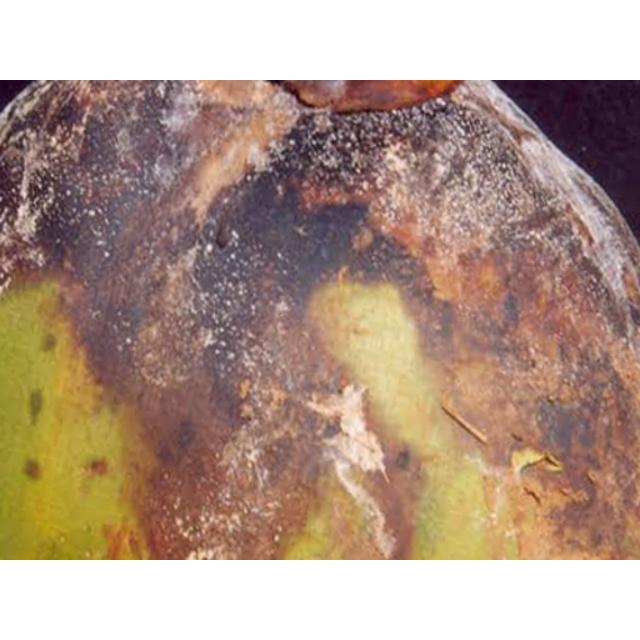damaged: (0, 80, 639, 559)
